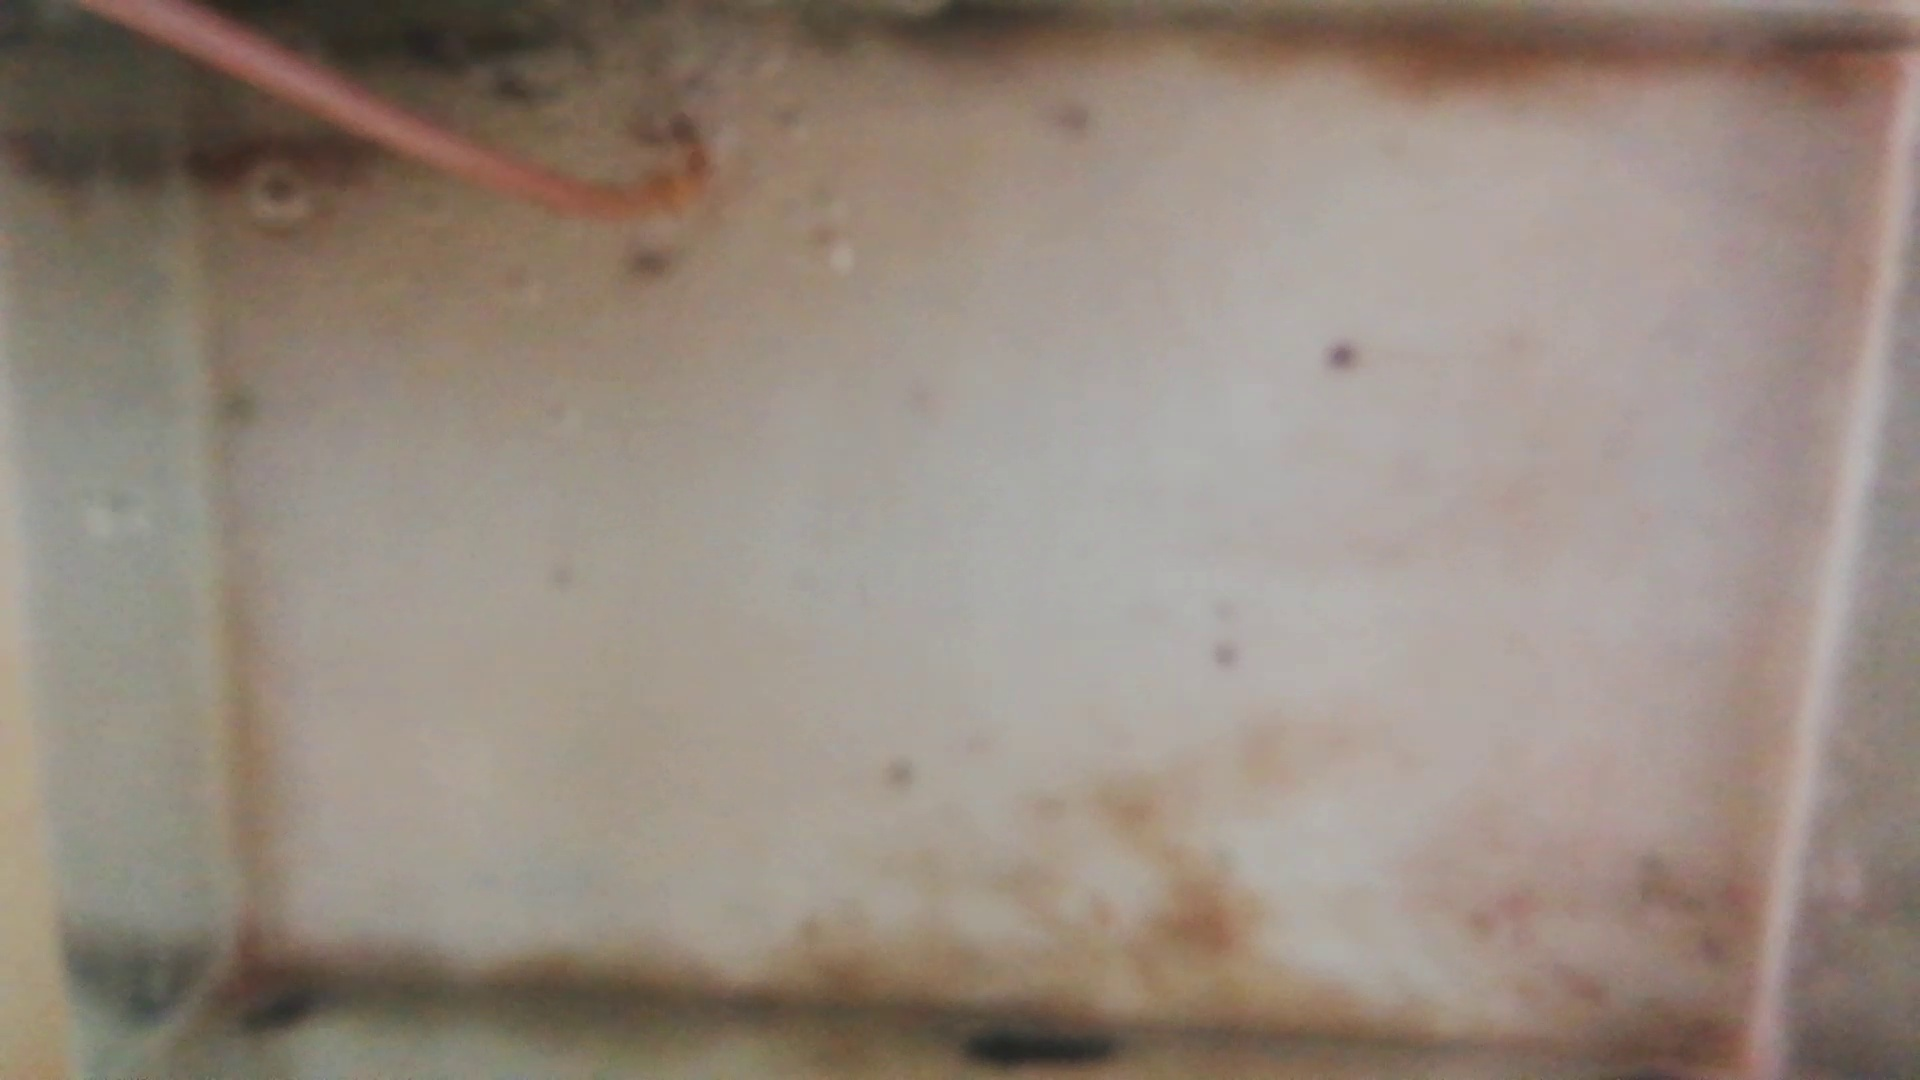fish: (190, 131, 375, 185)
